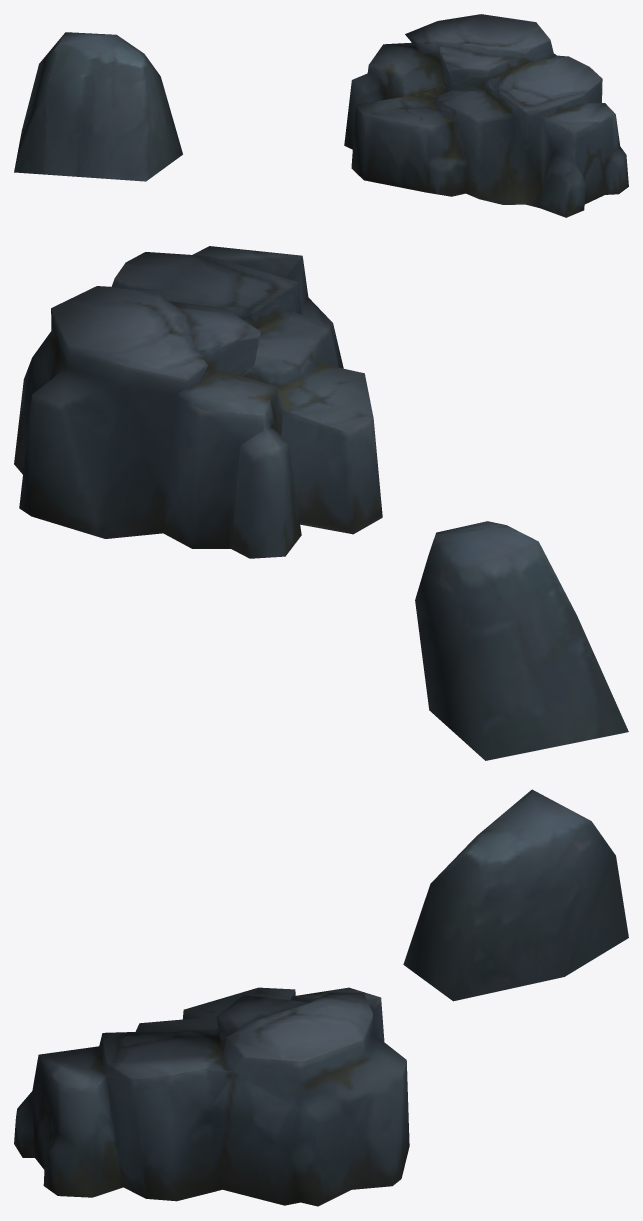
File: Area_15_30.fbx
3 renders of one model, top to bottom at view 1: azimuth 30°, elevation 25°; view 2: azimuth 150°, elevation 25°; view 3: azimuth 270°, elevation 25°, orthographic. The views are drawn at different scales.
Visible parts, largest first — view 1: Area_15_30; view 2: Area_15_30; view 3: Area_15_30.
Boxes of the visible parts, x1=… form: Area_15_30: x1=14, y1=14, x2=628, y2=217; Area_15_30: x1=14, y1=246, x2=628, y2=760; Area_15_30: x1=14, y1=789, x2=628, y2=1206.
Size of the model in its own units: 2630 by 601 by 2230.
